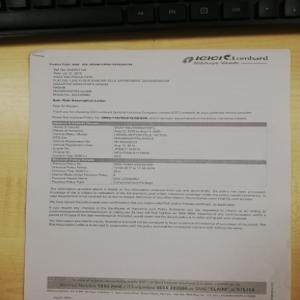image: (178, 50, 275, 68)
text: (47, 59, 255, 121), (50, 184, 268, 230), (51, 125, 171, 157), (49, 162, 157, 186)
